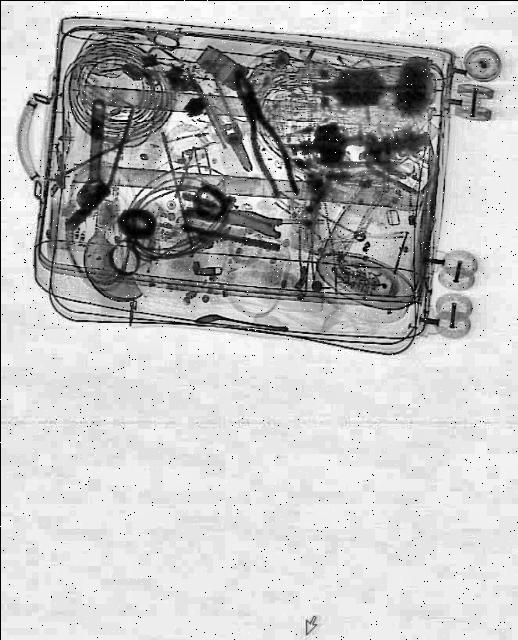Pliers: (223, 64, 299, 206), (183, 58, 257, 178)
Wrench: (75, 100, 111, 210)
